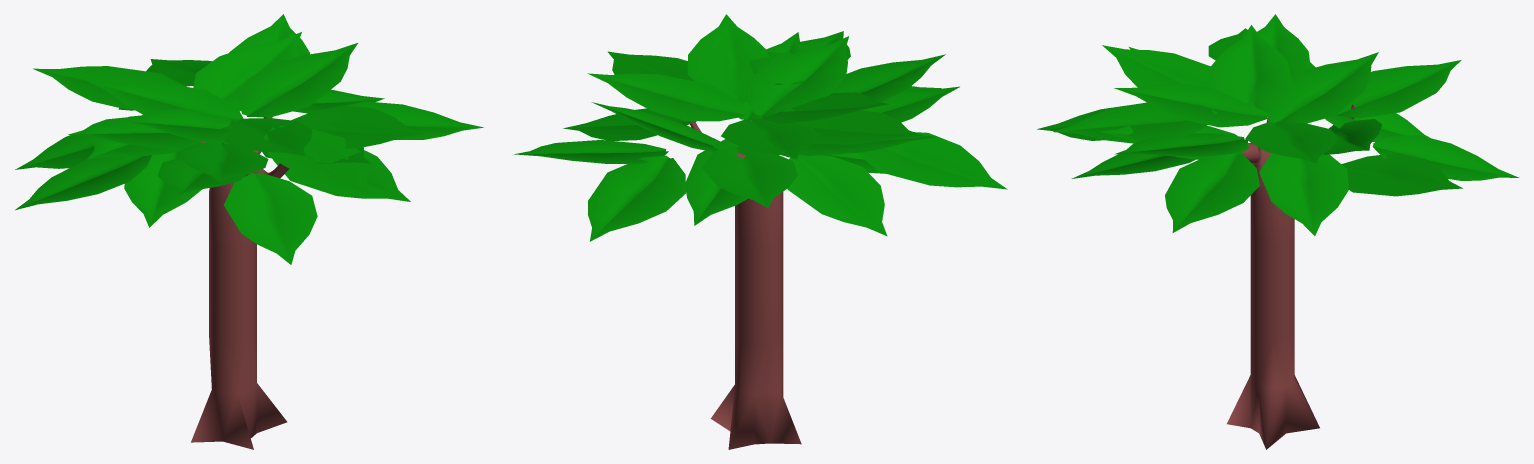
File: tree2.obj
3 views of the same model, side by side, from view 1: azimuth 30°, elevation 25°; view 2: azimuth 150°, elevation 25°; view 3: azimuth 270°, elevation 25° (orthographic). The views are drawn at different scales.
Parts seen in each view (by area): view 1: leaves, pien; view 2: leaves, pien; view 3: leaves, pien.
Part boxes in pixels (left/top/right/bottom): leaves: left=15, top=14, right=483, bottom=264; pien: left=191, top=143, right=287, bottom=449; leaves: left=514, top=14, right=1007, bottom=241; pien: left=710, top=192, right=801, bottom=449; leaves: left=1037, top=14, right=1519, bottom=235; pien: left=1227, top=147, right=1319, bottom=449.
Bounding box in the file's own units: 1.78 × 1.36 × 1.74.
